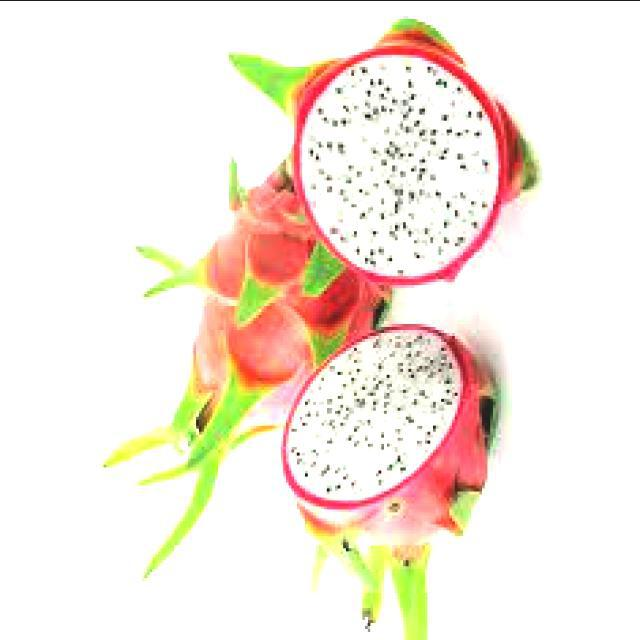trang: (90, 159, 388, 587), (226, 8, 544, 294), (277, 320, 506, 639)
